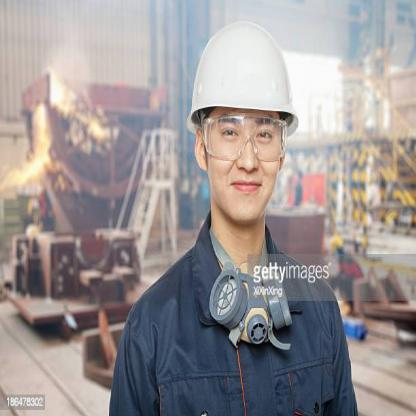Glove: (186, 21, 300, 130)
Goggles: (202, 112, 288, 166)
